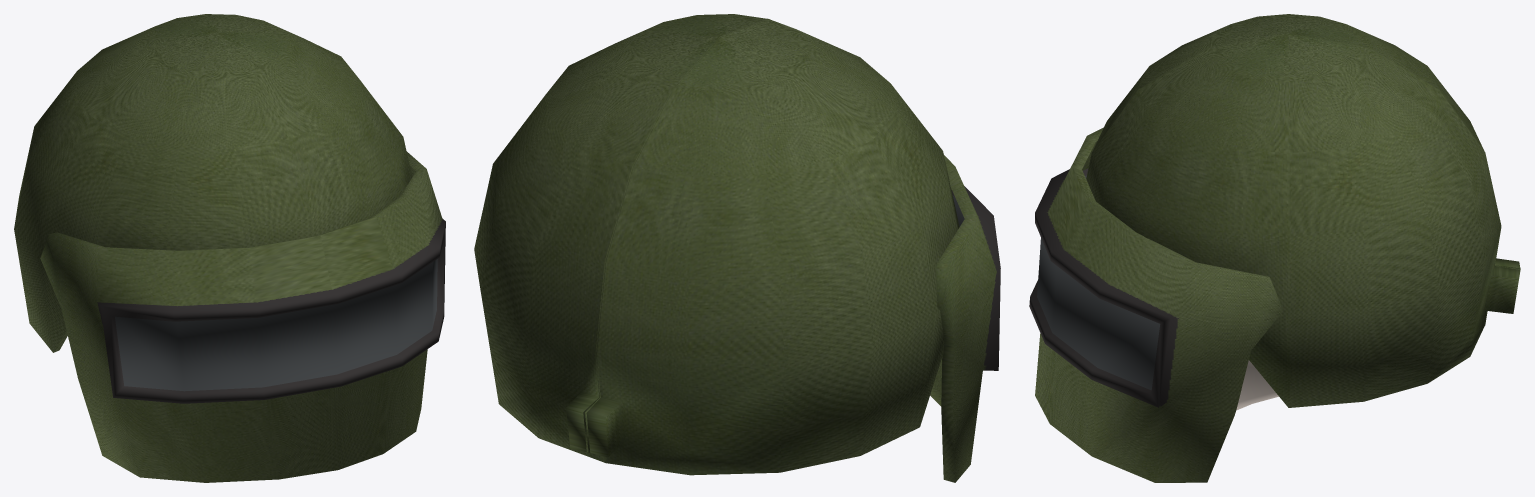
File: SH-Altin.fbx
3 renders of one model, left to right at view 1: azimuth 30°, elevation 25°; view 2: azimuth 150°, elevation 25°; view 3: azimuth 270°, elevation 25°, orthographic. The views are drawn at different scales.
Parts seen in each view (by area): view 1: SH-Altin-T; view 2: SH-Altin-T; view 3: SH-Altin-T, Lisa.
Part boxes in pixels (bbox=[...]): SH-Altin-T: bbox=[14, 14, 445, 482]; SH-Altin-T: bbox=[474, 14, 1000, 482]; SH-Altin-T: bbox=[1029, 14, 1520, 482]; Lisa: bbox=[1236, 360, 1278, 410].
Bounding box in the file's own units: 28.26 × 27.84 × 32.31.
